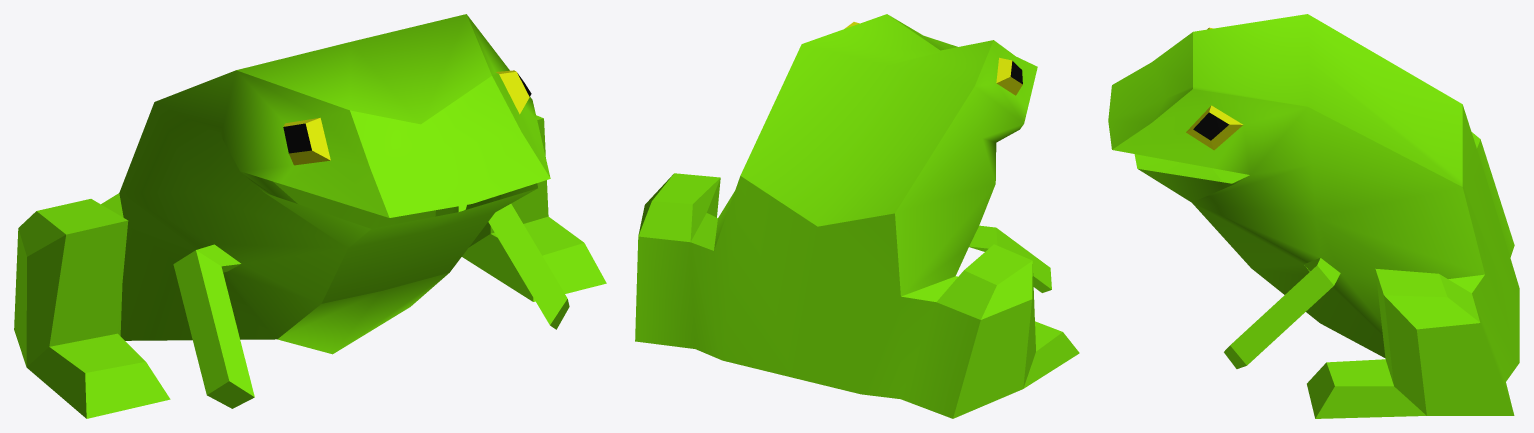
File: flog.fbx
3 renders of one model, left to right at view 1: azimuth 30°, elevation 25°; view 2: azimuth 150°, elevation 25°; view 3: azimuth 270°, elevation 25°, orthographic. The views are drawn at different scales.
Visible parts, largest first — view 1: pasted__pasted__pCube2; view 2: pasted__pasted__pCube2; view 3: pasted__pasted__pCube2.
Part boxes in pixels (x1,y1,x2,y2): pasted__pasted__pCube2: (14, 14, 606, 418); pasted__pasted__pCube2: (635, 14, 1079, 418); pasted__pasted__pCube2: (1108, 14, 1519, 418).
Size of the model in its own units: 1.41 by 0.85 by 1.17.
